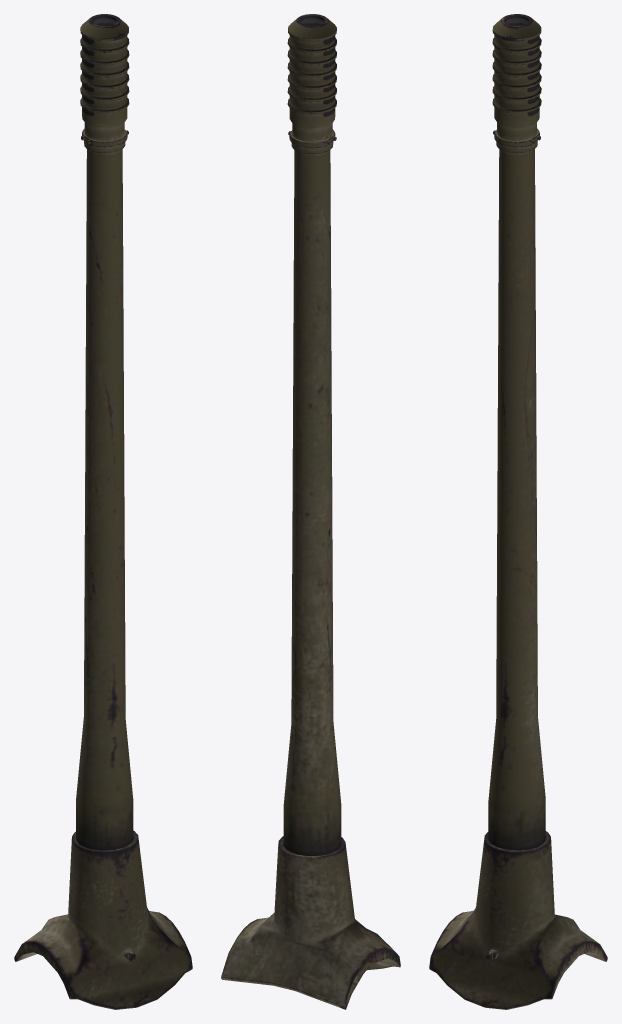
Rendered from Gun_06.glb.
The picture shows the model from 3 angles, left to right: view 1: azimuth 30°, elevation 25°; view 2: azimuth 150°, elevation 25°; view 3: azimuth 330°, elevation 25°; orthographic projection.
Visible parts, largest first — view 1: set_0_group_0; view 2: set_0_group_0; view 3: set_0_group_0.
Boxes of the visible parts, x1=… form: set_0_group_0: x1=14, y1=14, x2=192, y2=1009; set_0_group_0: x1=221, y1=14, x2=400, y2=1009; set_0_group_0: x1=429, y1=14, x2=607, y2=1009.
Bounding box in the file's own units: 0.6389 × 4.79 × 0.5601.
Materials: 1 (1 with a texture image).
